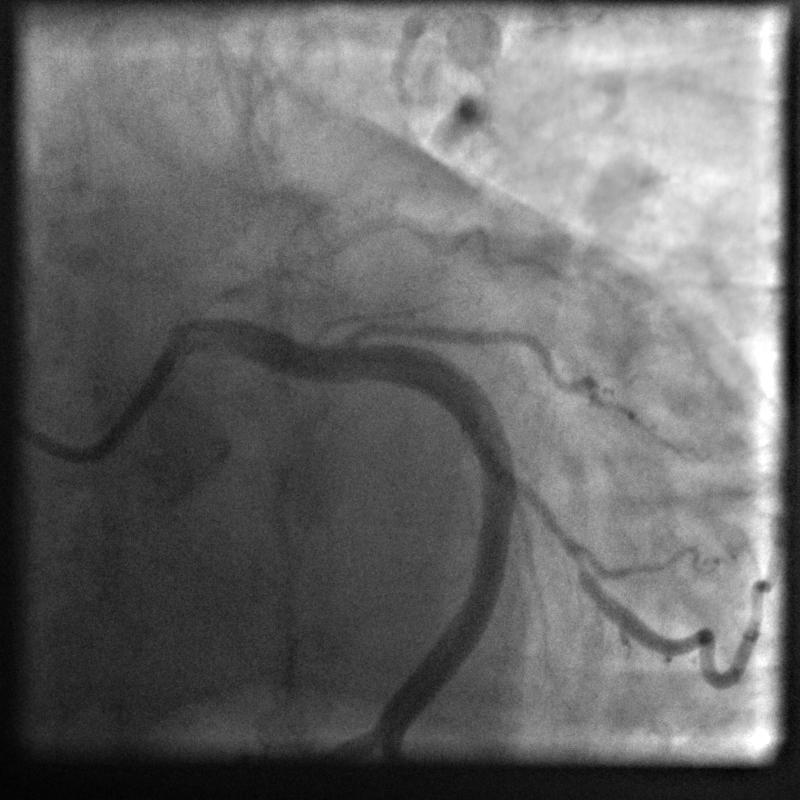Stenosis: (506, 458, 599, 581)
